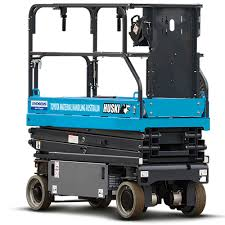Scissor Lift: (25, 2, 211, 220)
